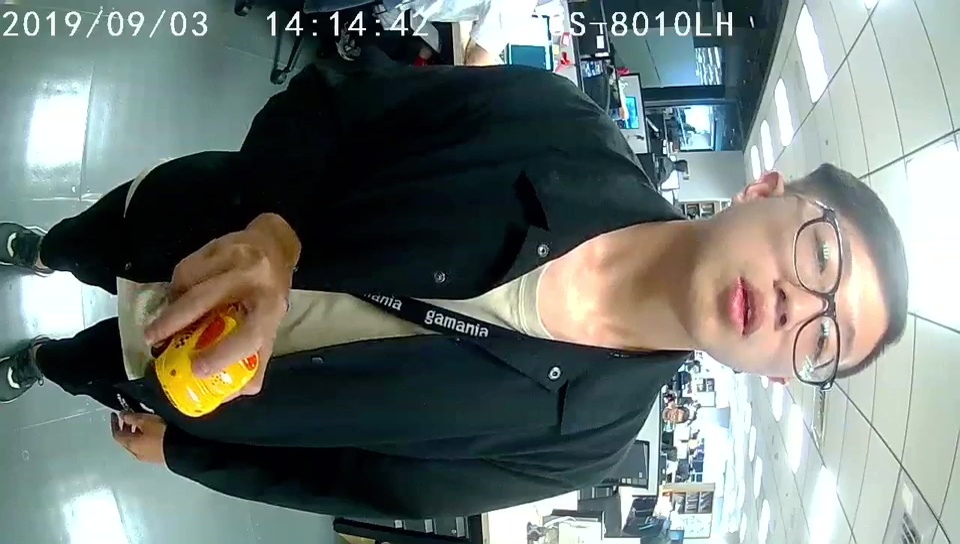car: (154, 315, 257, 417)
